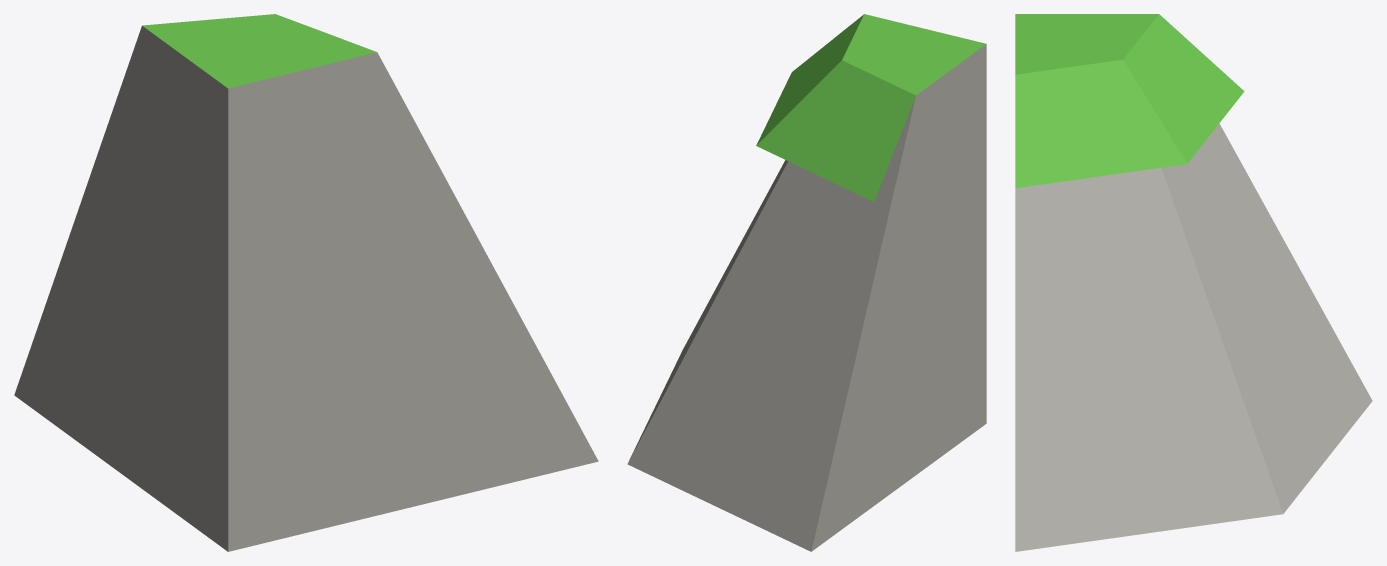
File: cliff_halfCorner_stone.glb
3 views of the same model, side by side, from view 1: azimuth 30°, elevation 25°; view 2: azimuth 150°, elevation 25°; view 3: azimuth 270°, elevation 25° (orthographic). The views are drawn at different scales.
Parts seen in each view (by area): view 1: cliff_halfCorner_stone; view 2: cliff_halfCorner_stone; view 3: cliff_halfCorner_stone.
Part boxes in pixels (x1,y1,x2,y2): cliff_halfCorner_stone: [14, 14, 598, 551]; cliff_halfCorner_stone: [627, 14, 986, 551]; cliff_halfCorner_stone: [1015, 14, 1372, 551].
Size of the model in its own units: 0.4185 by 0.5 by 0.4185.
